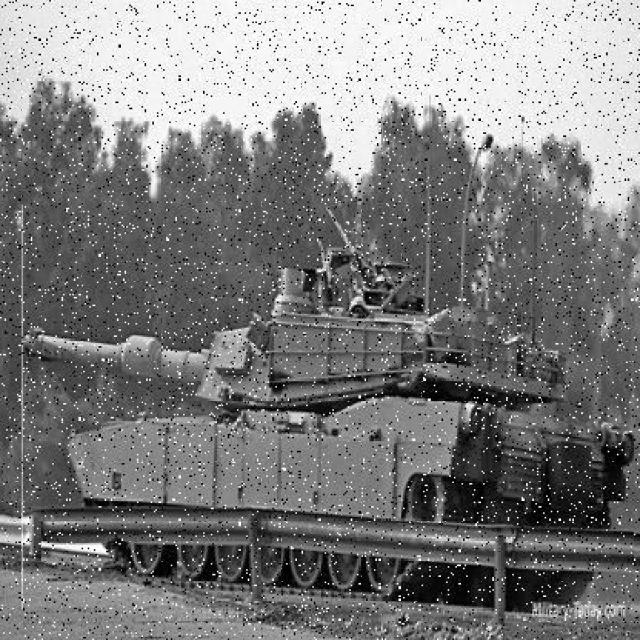Tank: (23, 207, 637, 613)
